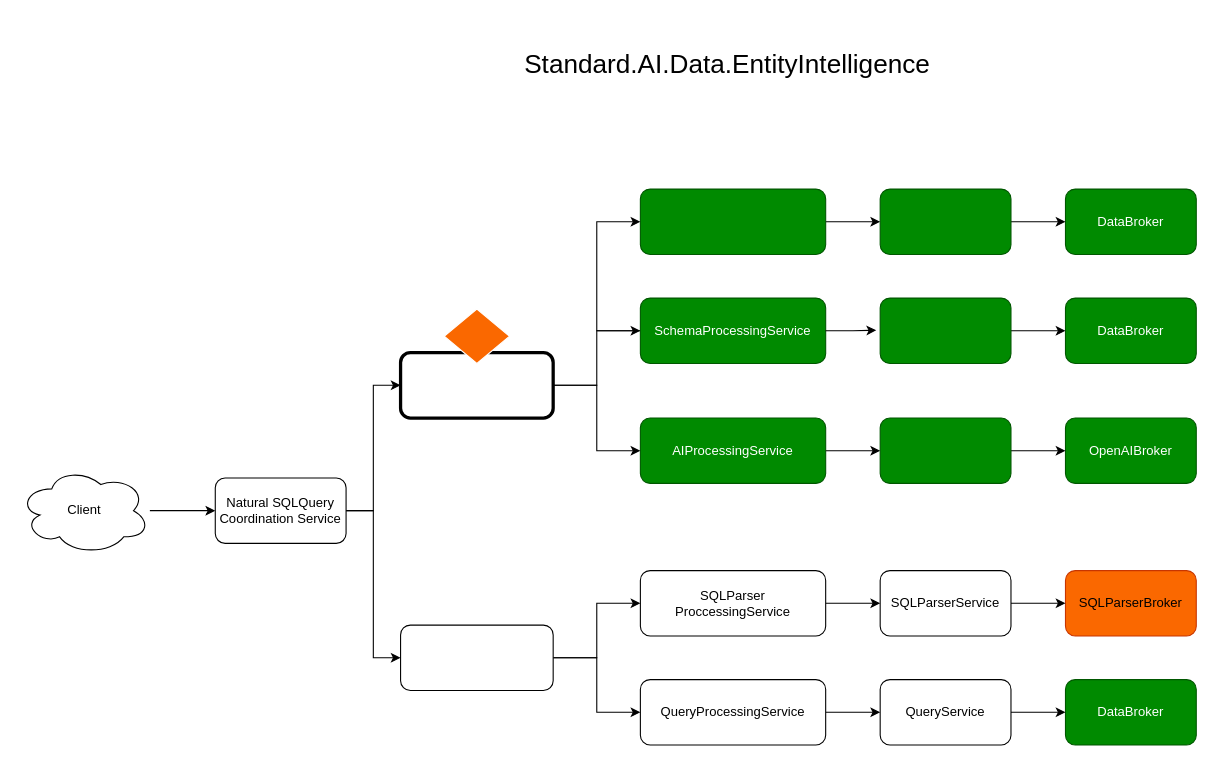
Image size: 1215x764. Some labels were removed from this diagram. The shapes that lost their labels are listed below. From the top down, each one's box as (x1, y1, x2, y2) in pixels, then its label:
(639, 188, 826, 255): DataProcessingService
(879, 188, 1011, 255): DataService
(879, 297, 1011, 364): SchemaService
(398, 350, 554, 419): SQLQuery Orchestration Service
(879, 417, 1011, 483): AIService
(399, 624, 553, 691): SQL Query Orchestration Service
